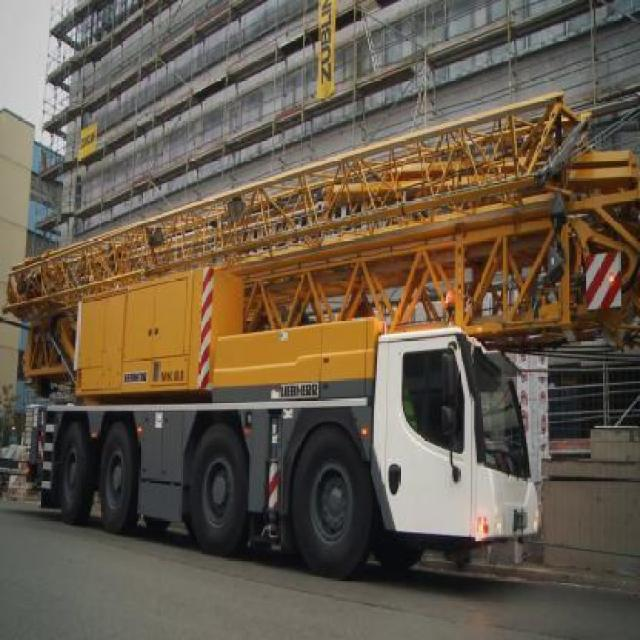Mobile Crane: (1, 90, 638, 564)
